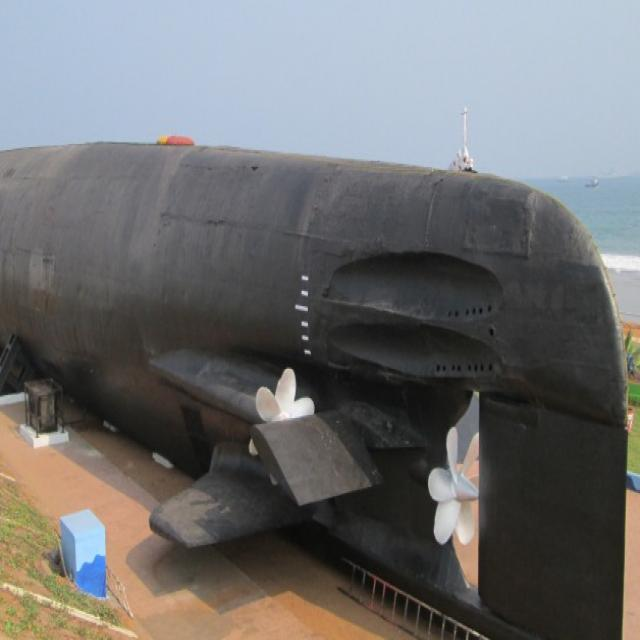submarine: (1, 31, 624, 640)
